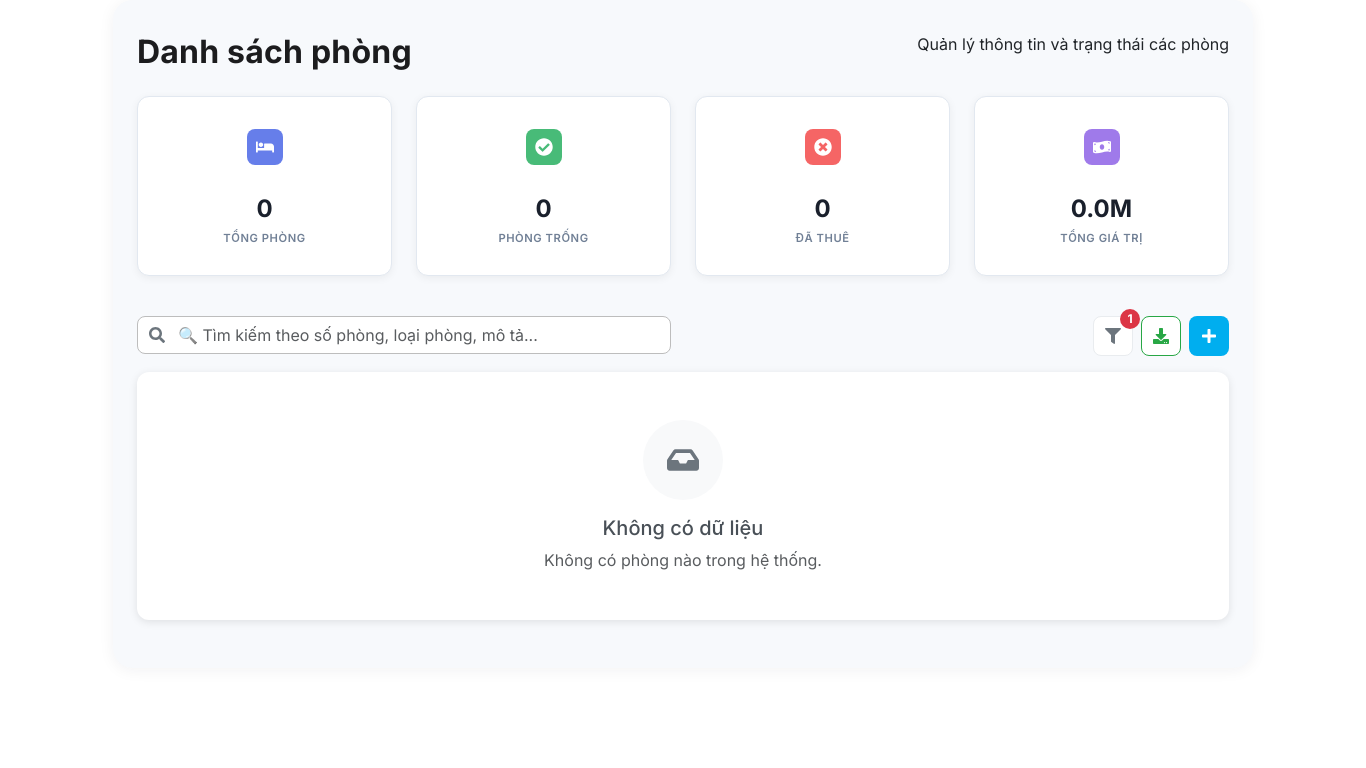
Scenario: RoomListPage › shows add room modal when clicking add button
Click the button named "thêm phòng" at {"x": 1209, "y": 336}, box [1189,316,1229,356]
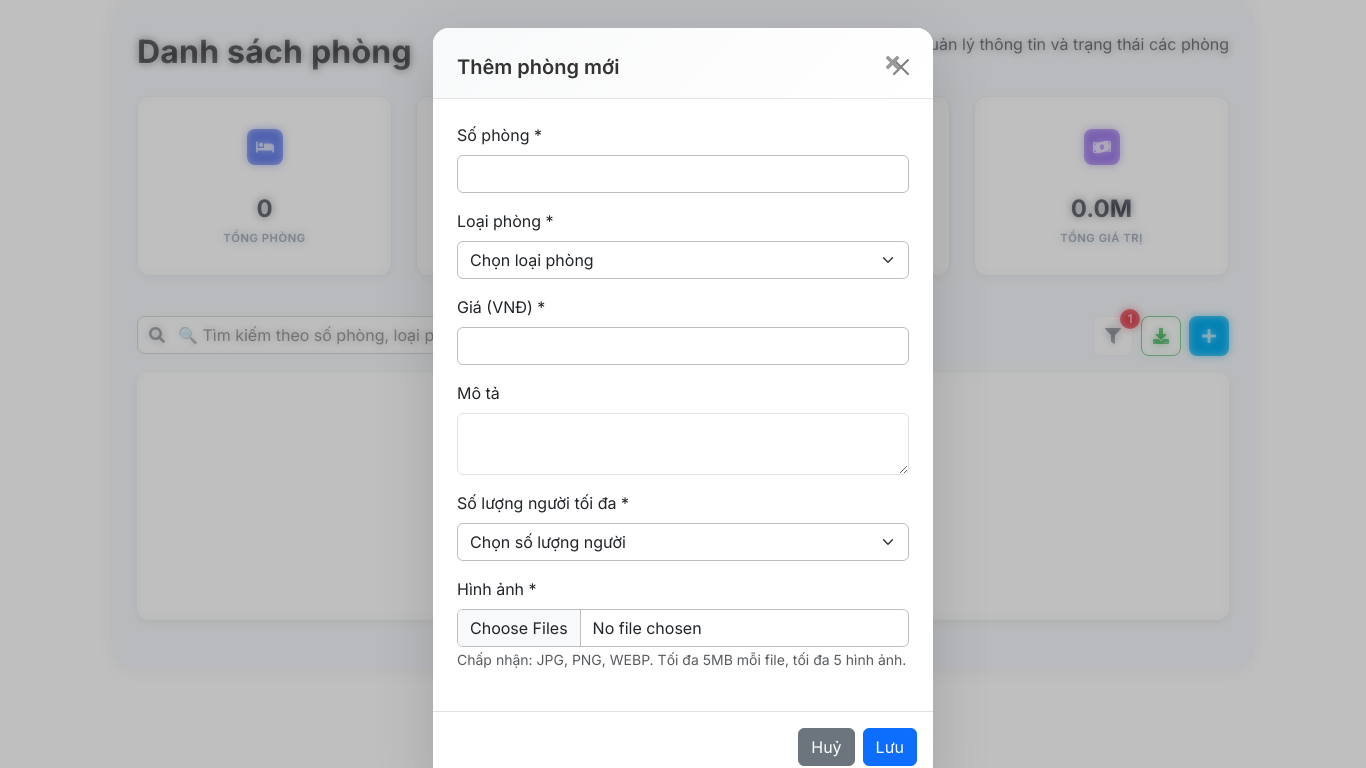
Now the text "Thêm phòng mới" is shown, box [457,55,619,79]
